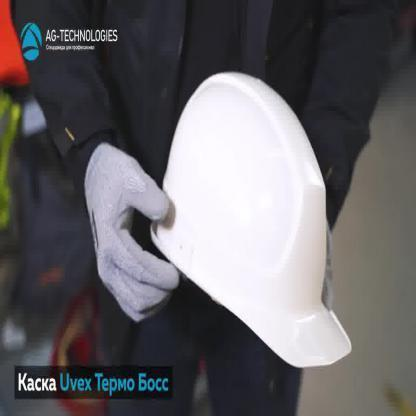gloves: (84, 143, 181, 325)
helmet: (149, 68, 353, 370)
